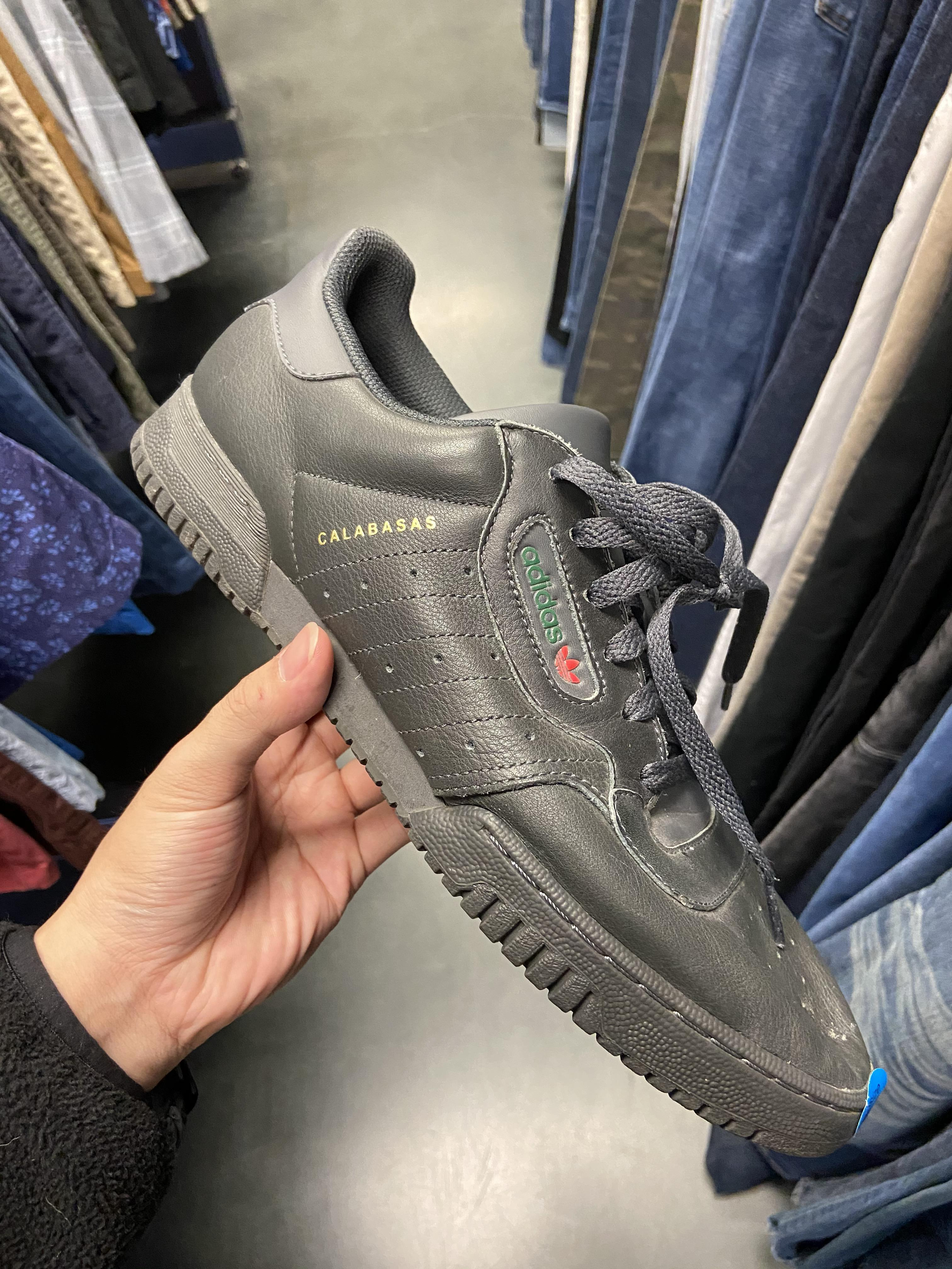sneaker: (121, 211, 892, 1171)
